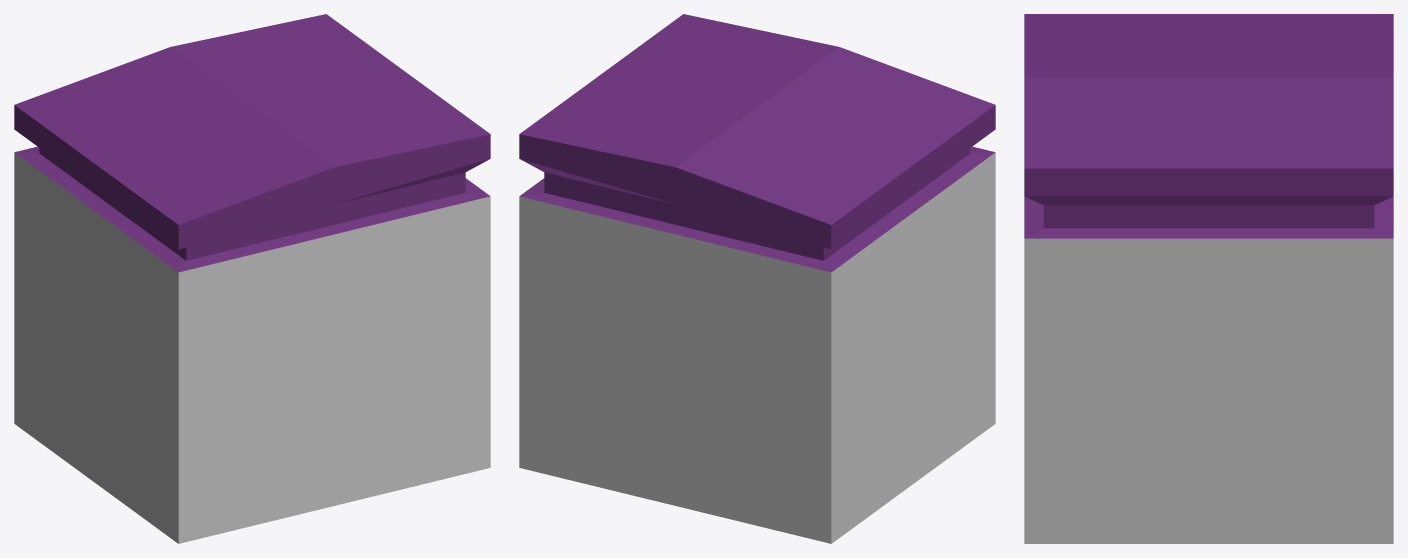
Rendered from Flat Building.fbx.
3 views of the same model, side by side, from view 1: azimuth 30°, elevation 25°; view 2: azimuth 150°, elevation 25°; view 3: azimuth 270°, elevation 25° (orthographic). The views are drawn at different scales.
Parts seen in each view (by area): view 1: Flat building; view 2: Flat building; view 3: Flat building.
Boxes of the visible parts, x1,y1,x2,y2 form: Flat building: (14,14,490,543); Flat building: (519,14,995,543); Flat building: (1024,14,1393,543).
Size of the model in its own units: 4048 by 4197 by 3689.
